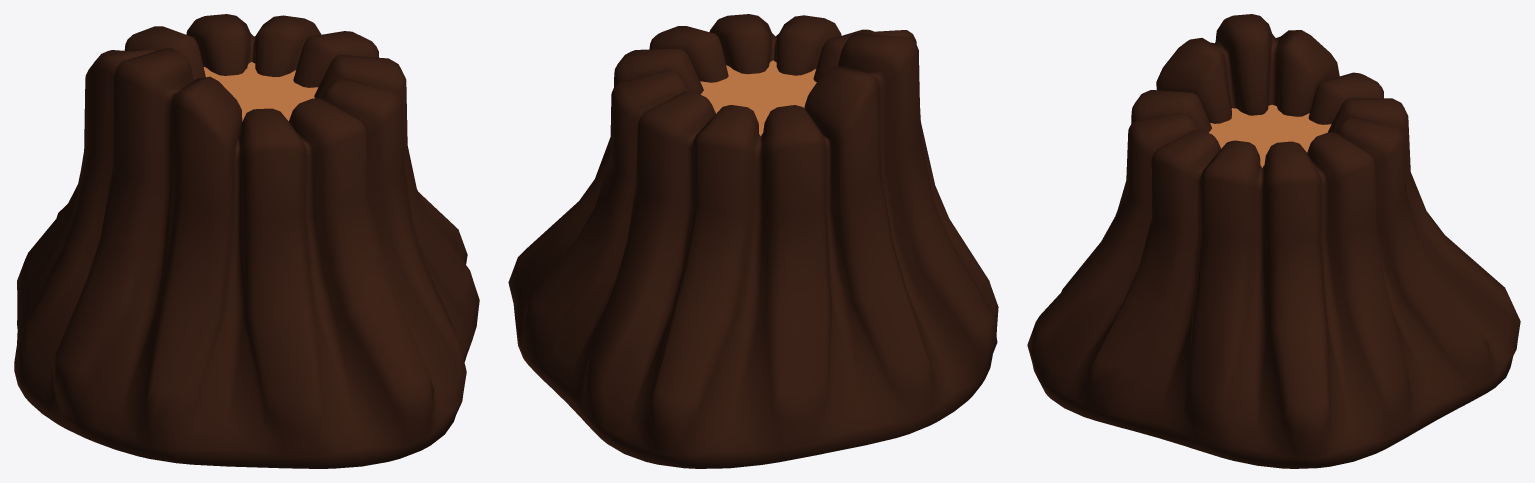
The model's file is tocon_low.fbx.
3 renders of one model, left to right at view 1: azimuth 30°, elevation 25°; view 2: azimuth 150°, elevation 25°; view 3: azimuth 270°, elevation 25°, orthographic. The views are drawn at different scales.
Visible parts, largest first — view 1: tocon_low; view 2: tocon_low; view 3: tocon_low.
Boxes of the visible parts, left/top/right/bottom form: tocon_low: left=14, top=14, right=479, bottom=468; tocon_low: left=508, top=14, right=998, bottom=468; tocon_low: left=1027, top=14, right=1520, bottom=468.
Bounding box in the file's own units: 282 × 209 × 307.
